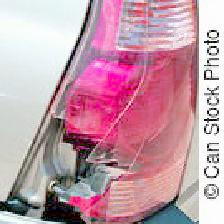tail_lamp: (38, 117, 133, 218)
